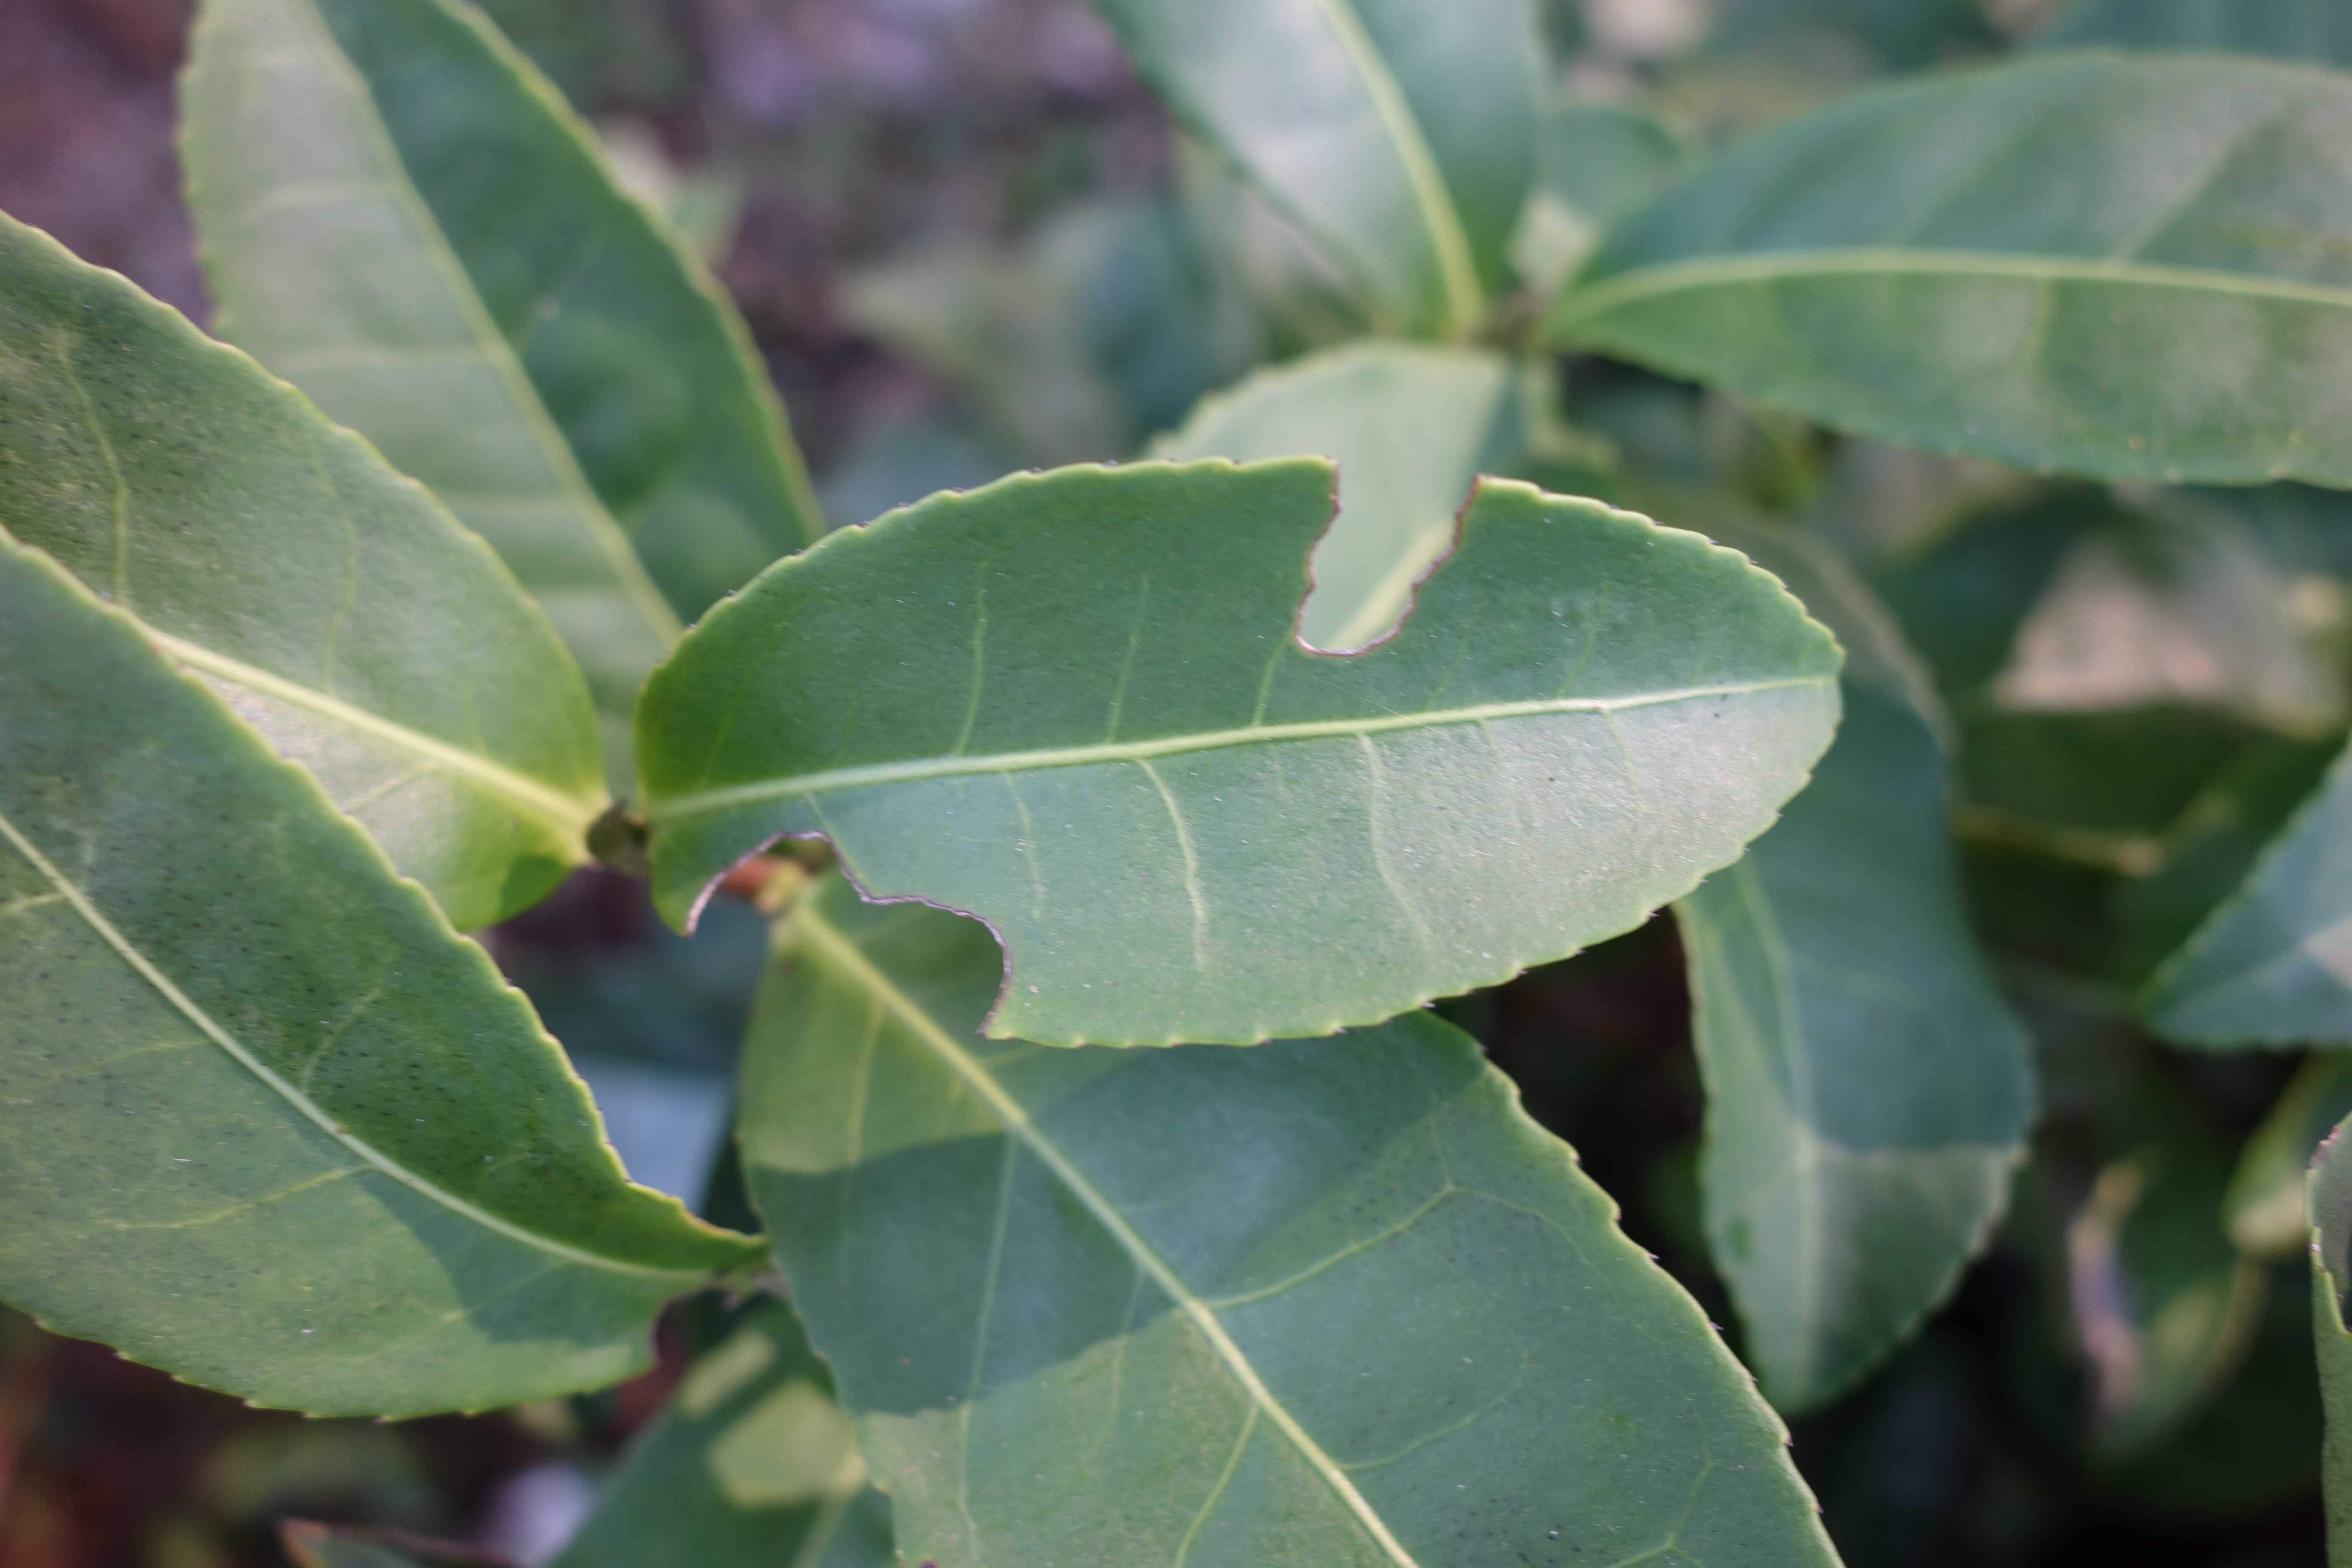chihuo_high: (619, 455, 1846, 1053)
healthy: (3, 532, 689, 1426), (0, 208, 616, 945), (171, 2, 828, 593), (1557, 38, 2352, 492)
